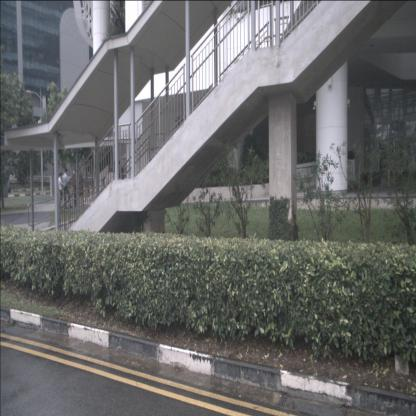human-pedestrian-adult: (386, 142, 398, 188), (115, 159, 124, 209), (63, 168, 73, 210), (57, 172, 65, 209), (77, 172, 85, 208), (72, 169, 78, 208)
